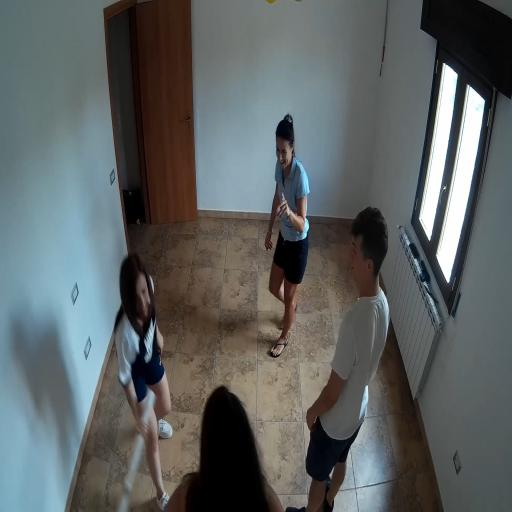violencia: (95, 246, 293, 512)
